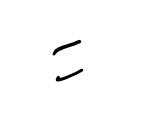eqv: (53, 39, 83, 82)
